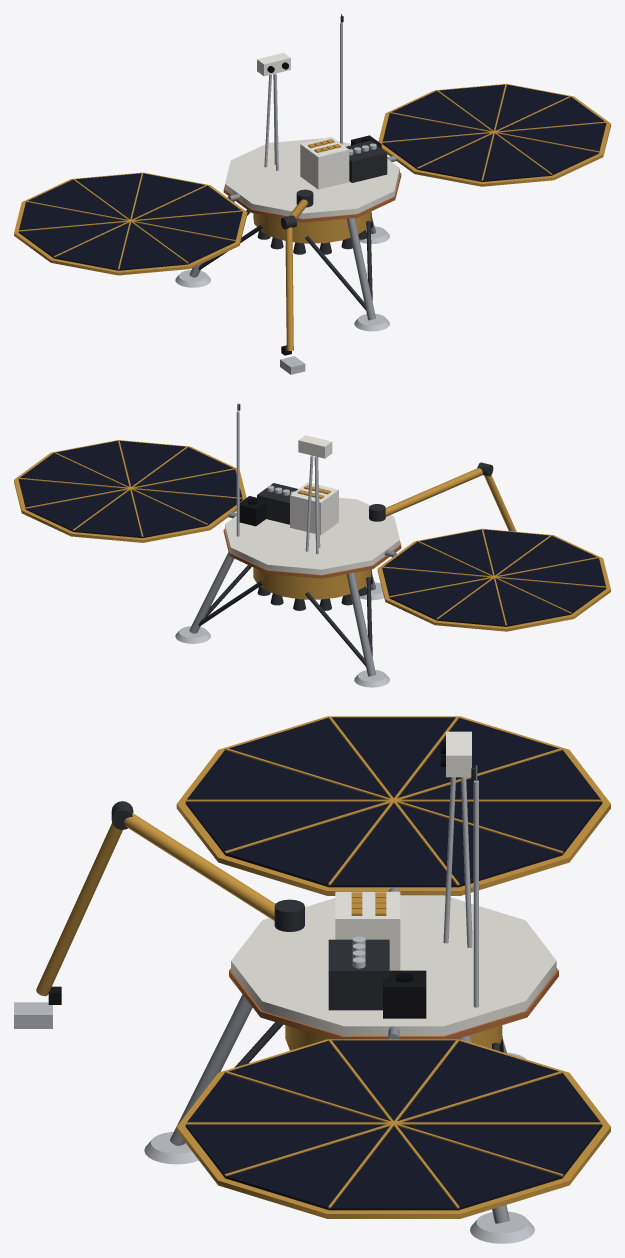
Rendered from phoenix.glb.
The picture shows the model from 3 angles, top to bottom: view 1: azimuth 30°, elevation 25°; view 2: azimuth 150°, elevation 25°; view 3: azimuth 270°, elevation 25°; orthographic projection. The views are drawn at different scales.
Parts seen in each view (by area): view 1: array_cells (×2), deck_top, array_rim (×2), array_ribs (×2), tega_box, body, meca_box, arm_lower, leg_strut, deck_edge, thrusters, ssi_head; view 2: array_cells (×2), deck_top, array_rim (×2), array_ribs (×2), body, tega_box, leg_strut (×2), arm_upper, footpad (×2), meca_box, deck_edge, thrusters (+5 smaller); view 3: array_cells (×2), deck_top, array_rim (×2), array_ribs (×2), meca_box, tega_box, arm_upper, footpad (×2), arm_lower, deck_edge, lidar, ssi_mast (×2) (+6 smaller).
Boxes of the visible parts, x1=… form: array_cells (×2): x1=18, y1=84, x2=606, y2=270; deck_top: x1=225, y1=138, x2=399, y2=218; array_rim (×2): x1=14, y1=84, x2=610, y2=275; array_ribs (×2): x1=18, y1=84, x2=606, y2=269; tega_box: x1=300, y1=136, x2=349, y2=189; body: x1=253, y1=211, x2=371, y2=243; meca_box: x1=346, y1=140, x2=387, y2=182; arm_lower: x1=285, y1=227, x2=293, y2=350; leg_strut: x1=347, y1=218, x2=375, y2=320; deck_edge: x1=223, y1=172, x2=401, y2=222; thrusters: x1=257, y1=230, x2=366, y2=254; ssi_head: x1=257, y1=52, x2=290, y2=76; array_cells (×2): x1=18, y1=440, x2=606, y2=626; deck_top: x1=225, y1=497, x2=399, y2=574; array_rim (×2): x1=14, y1=440, x2=610, y2=631; array_ribs (×2): x1=18, y1=440, x2=606, y2=625; body: x1=253, y1=567, x2=371, y2=599; tega_box: x1=290, y1=482, x2=338, y2=535; leg_strut (×2): x1=189, y1=552, x2=375, y2=676; arm_upper: x1=385, y1=468, x2=483, y2=516; footpad (×2): x1=175, y1=626, x2=389, y2=687; meca_box: x1=257, y1=483, x2=297, y2=524; deck_edge: x1=223, y1=529, x2=401, y2=578; thrusters: x1=257, y1=586, x2=366, y2=610; array_cells (×2): x1=185, y1=717, x2=602, y2=1210; deck_top: x1=231, y1=895, x2=556, y2=1035; array_rim (×2): x1=176, y1=716, x2=610, y2=1218; array_ribs (×2): x1=185, y1=716, x2=602, y2=1208; meca_box: x1=328, y1=939, x2=389, y2=1010; tega_box: x1=335, y1=891, x2=400, y2=970; arm_upper: x1=124, y1=813, x2=275, y2=920; footpad (×2): x1=144, y1=1132, x2=534, y2=1243; arm_lower: x1=36, y1=823, x2=122, y2=996; deck_edge: x1=229, y1=968, x2=558, y2=1039; lidar: x1=383, y1=970, x2=426, y2=1018; ssi_mast (×2): x1=443, y1=777, x2=472, y2=947.
Bounding box in the file's own units: 5.42 × 2.19 × 2.75.
